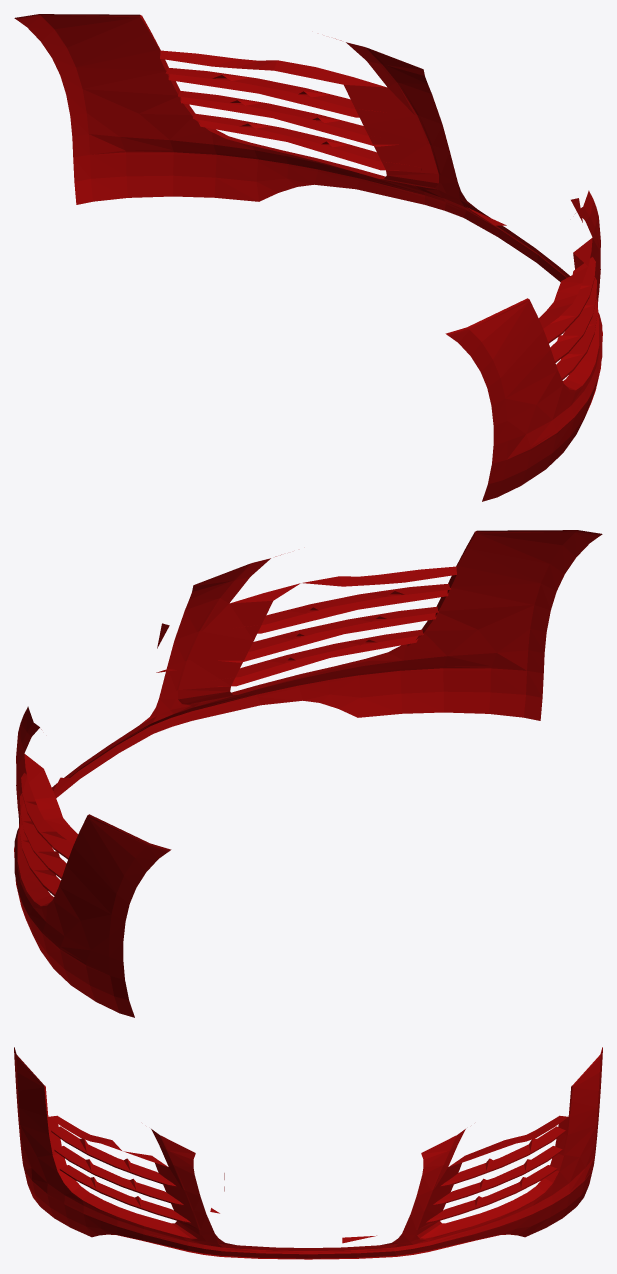
File: bumpe5.002.dae
3 views of the same model, one above another, from view 1: azimuth 30°, elevation 25°; view 2: azimuth 150°, elevation 25°; view 3: azimuth 270°, elevation 25° (orthographic). The views are drawn at different scales.
Visible parts, largest first — view 1: bumpe5_000; view 2: bumpe5_000; view 3: bumpe5_000.
Part boxes in pixels (box(x1,y1,x2,y2)): bumpe5_000: box(14, 14, 602, 501); bumpe5_000: box(14, 530, 602, 1017); bumpe5_000: box(14, 1047, 602, 1259).
Bounding box in the file's own units: 87.86 × 213 × 51.59.
